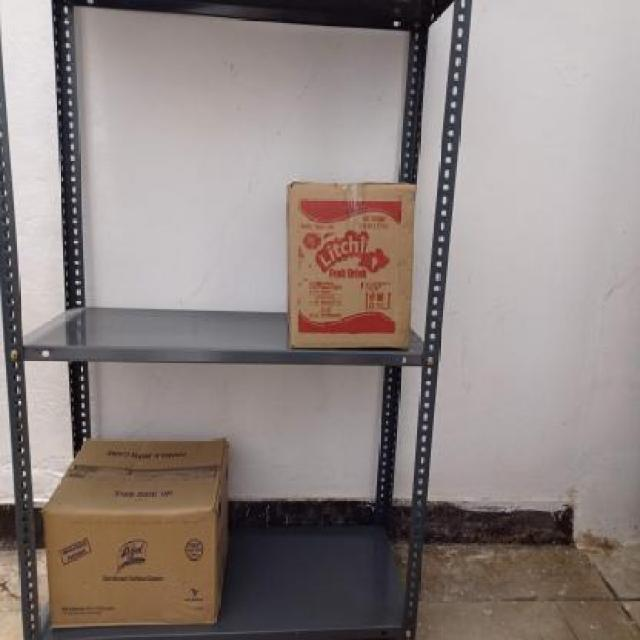box: (288, 182, 416, 345), (47, 506, 215, 625)
